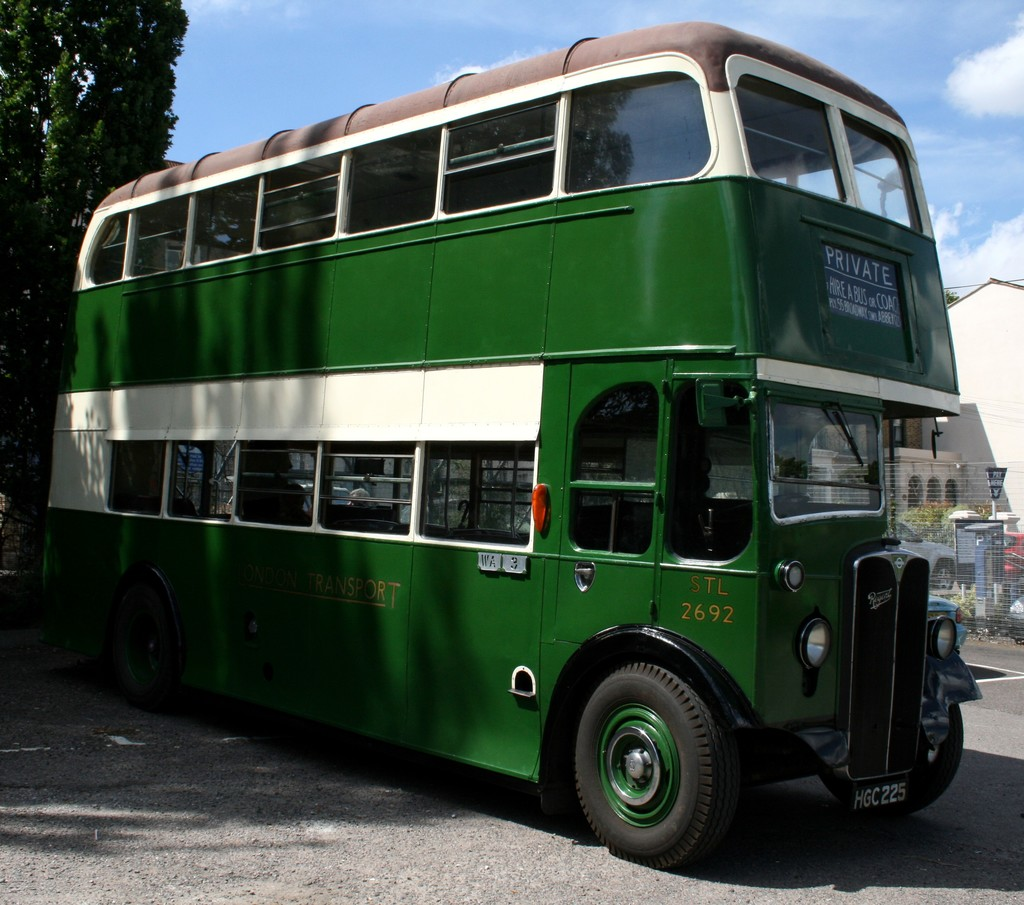mobil: (1, 26, 953, 858)
